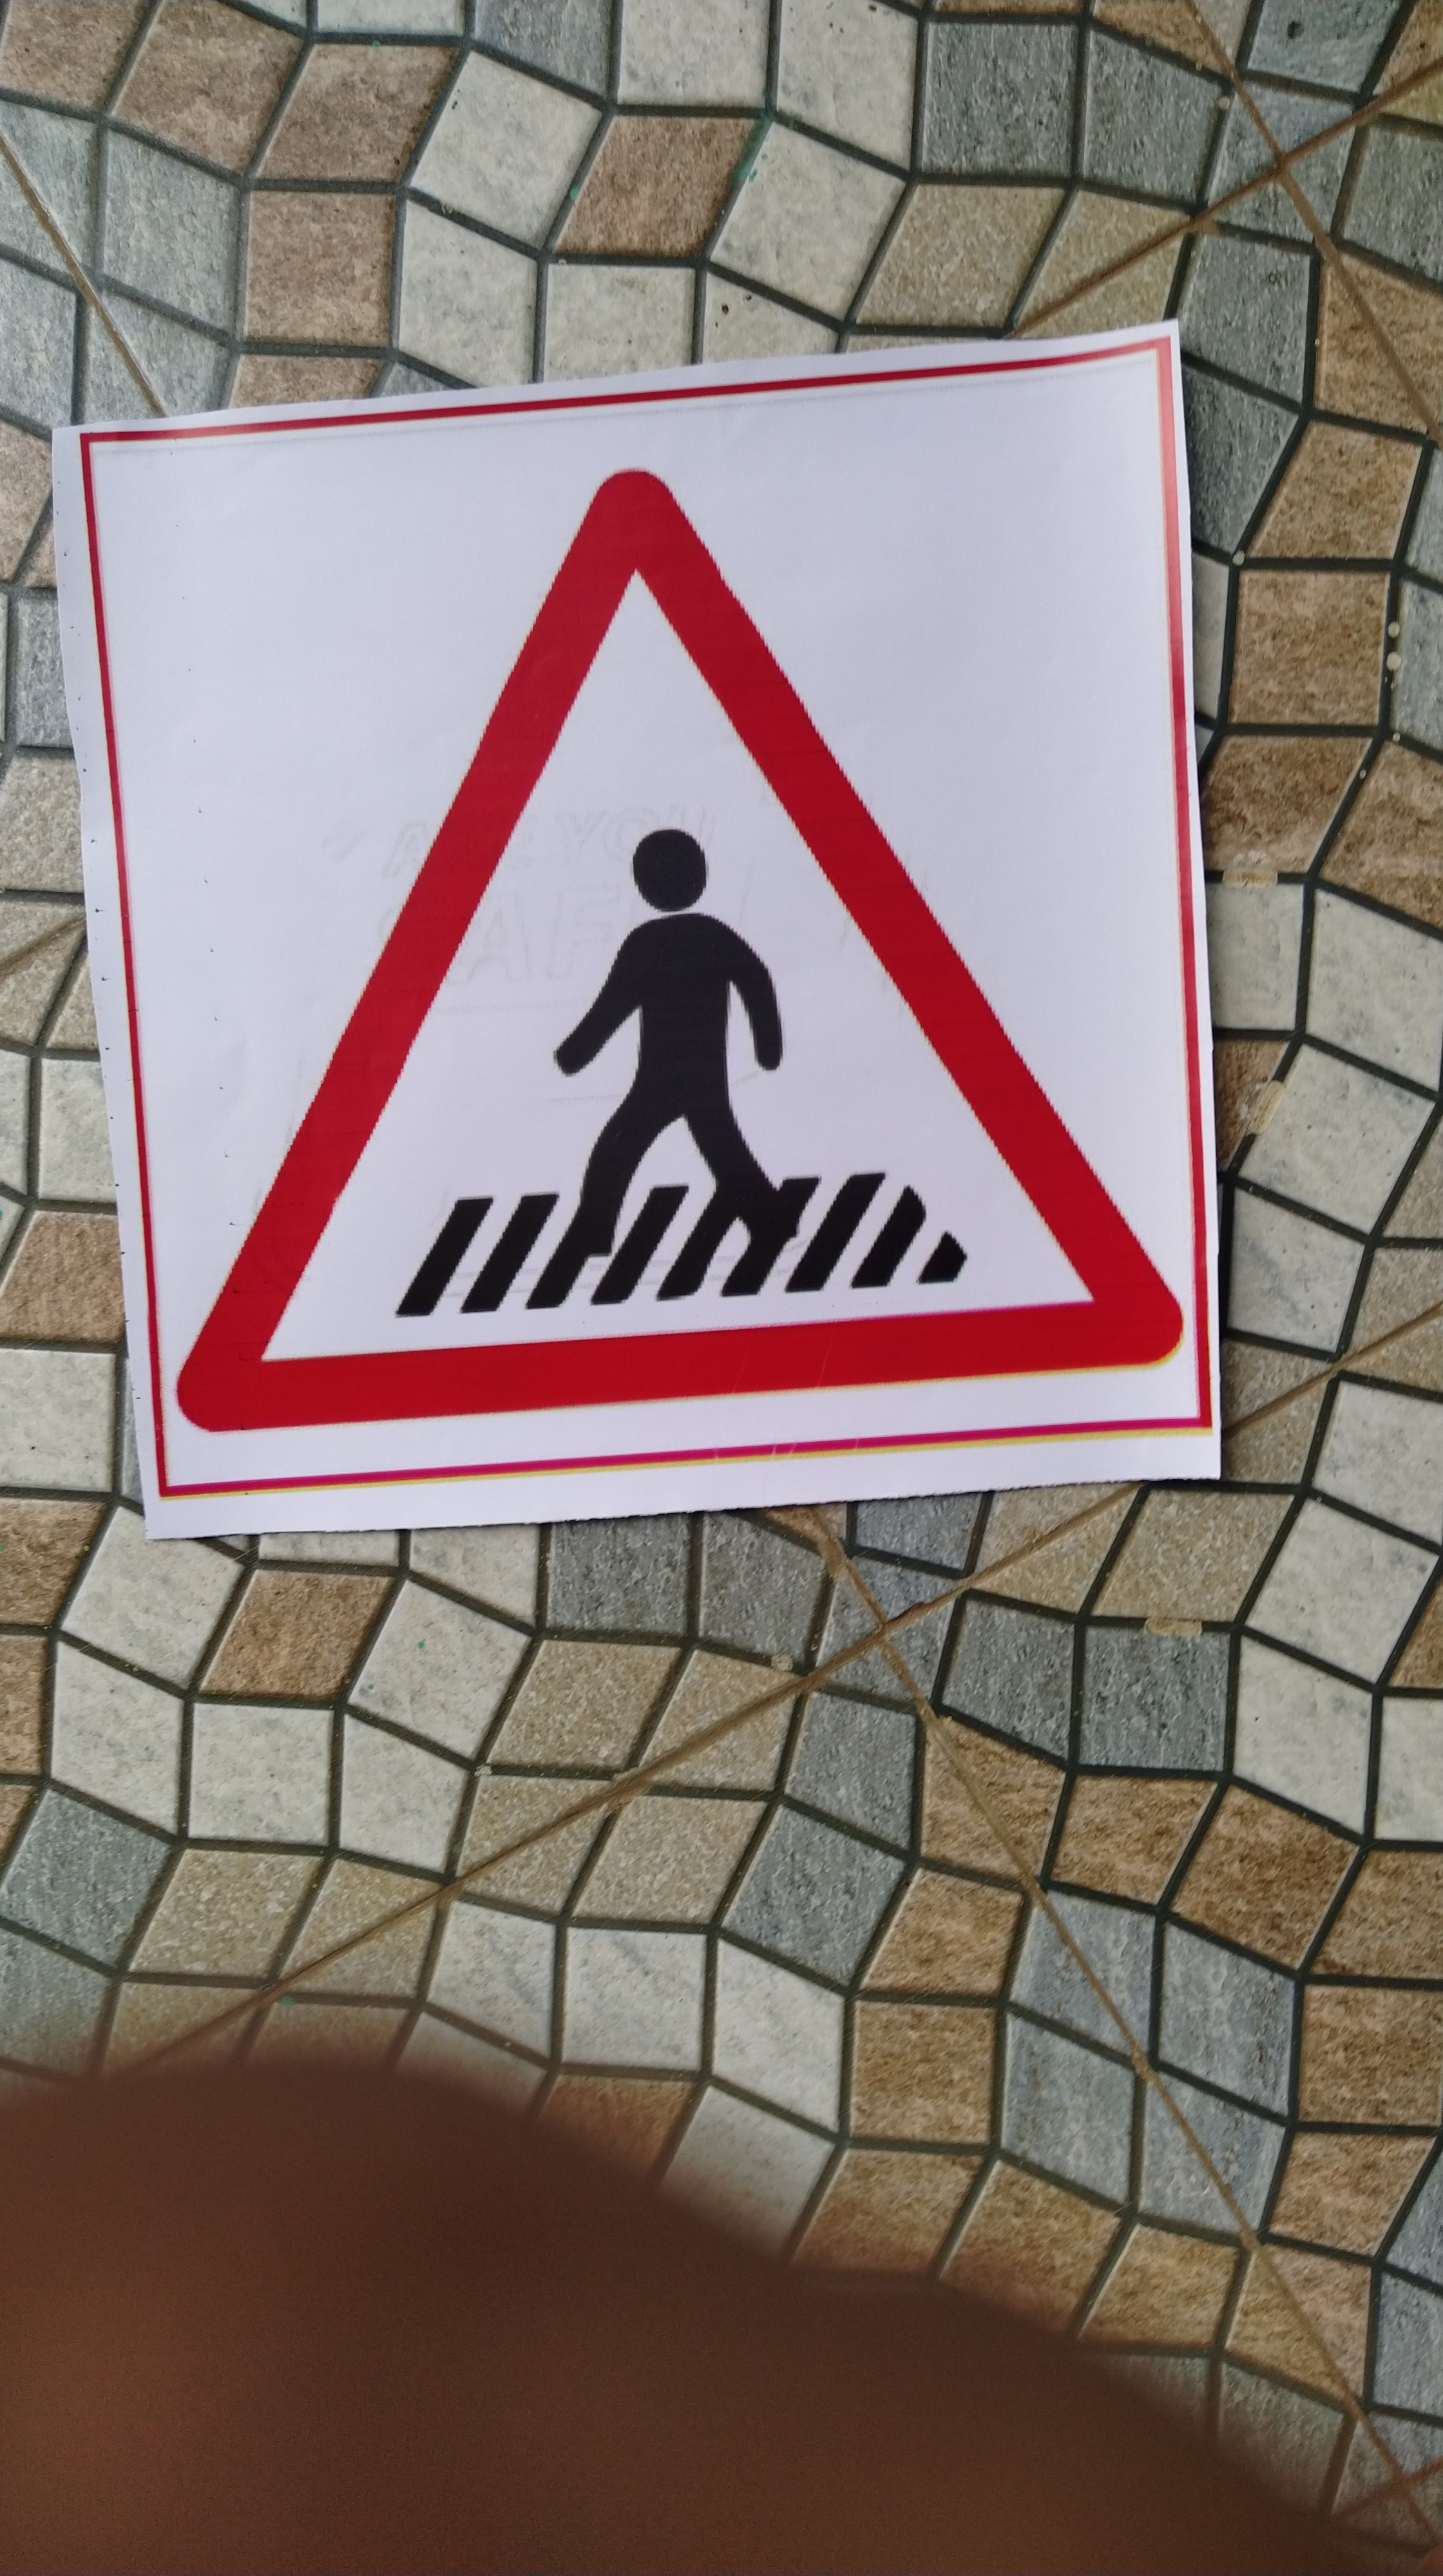pedestrain crossing: (106, 432, 1176, 1591)
